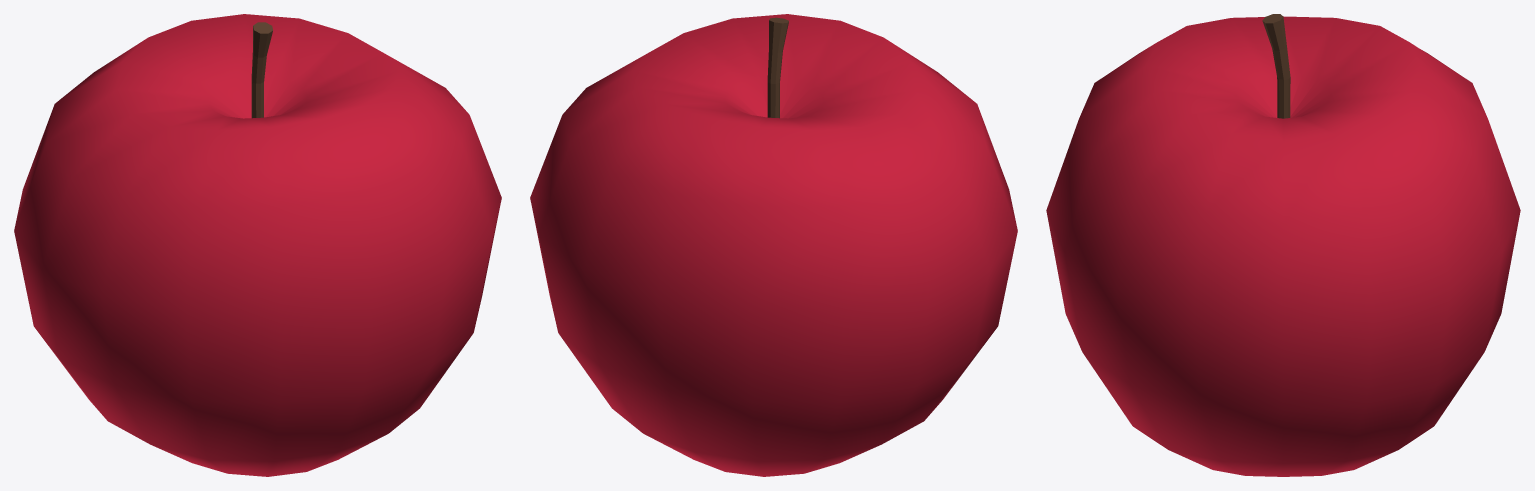
File: Apple1star.fbx
3 renders of one model, left to right at view 1: azimuth 30°, elevation 25°; view 2: azimuth 150°, elevation 25°; view 3: azimuth 270°, elevation 25°, orthographic. The views are drawn at different scales.
Visible parts, largest first — view 1: Apple; view 2: Apple; view 3: Apple.
Part boxes in pixels (box(x1,y1,x2,y2)): Apple: box(14, 14, 501, 476); Apple: box(530, 14, 1017, 476); Apple: box(1046, 14, 1520, 476).
Bounding box in the file's own units: 223 × 204 × 207.
